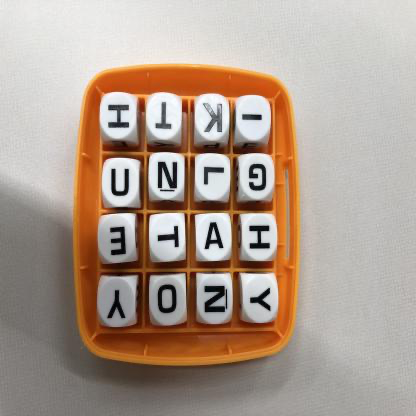a: (197, 214, 233, 261)
e: (99, 215, 137, 264)
g: (240, 154, 275, 200)
h: (102, 93, 139, 140), (243, 214, 278, 261)
i: (237, 95, 272, 141)
k: (195, 96, 230, 142)
l: (196, 155, 232, 199)
n: (197, 274, 234, 324), (149, 154, 186, 201)
o: (150, 276, 187, 325)
t: (147, 94, 183, 141), (150, 215, 186, 262)
u: (103, 159, 141, 208)
y: (98, 278, 136, 327), (242, 274, 280, 322)
